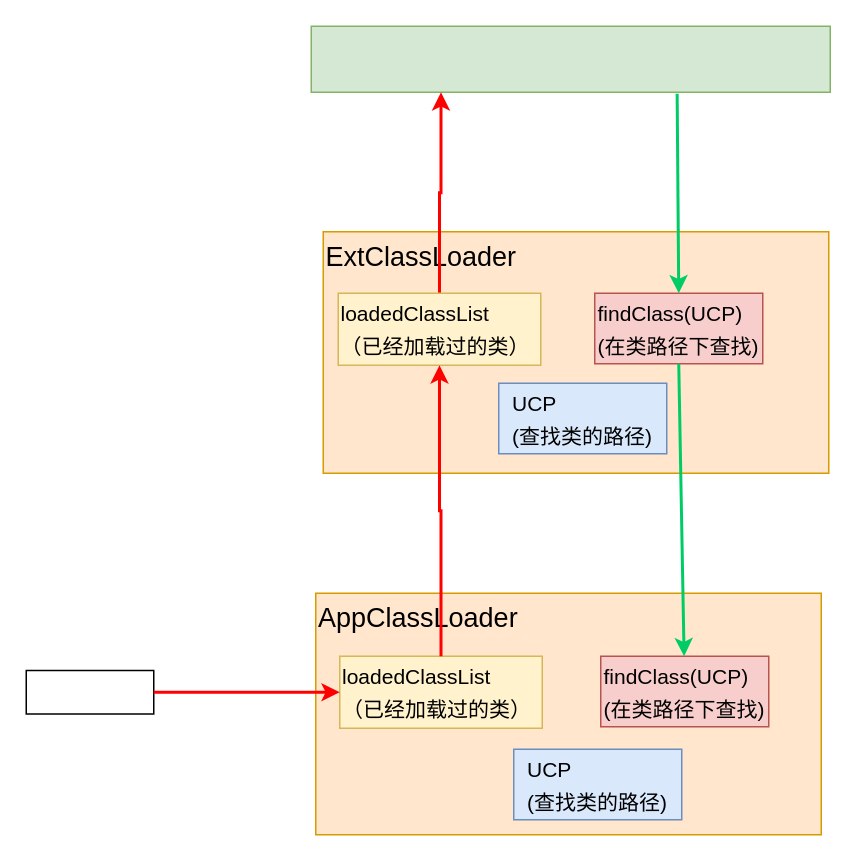
Image size: 857x861. Some labels were removed from this diagram. The shapes that lost their labels are listed below. From the top down, each one's box as (x1, y1, x2, y2) in pixels, then its label:
(310, 25, 830, 92): BootStrapClassLoader
(25, 669, 154, 714): User.class
